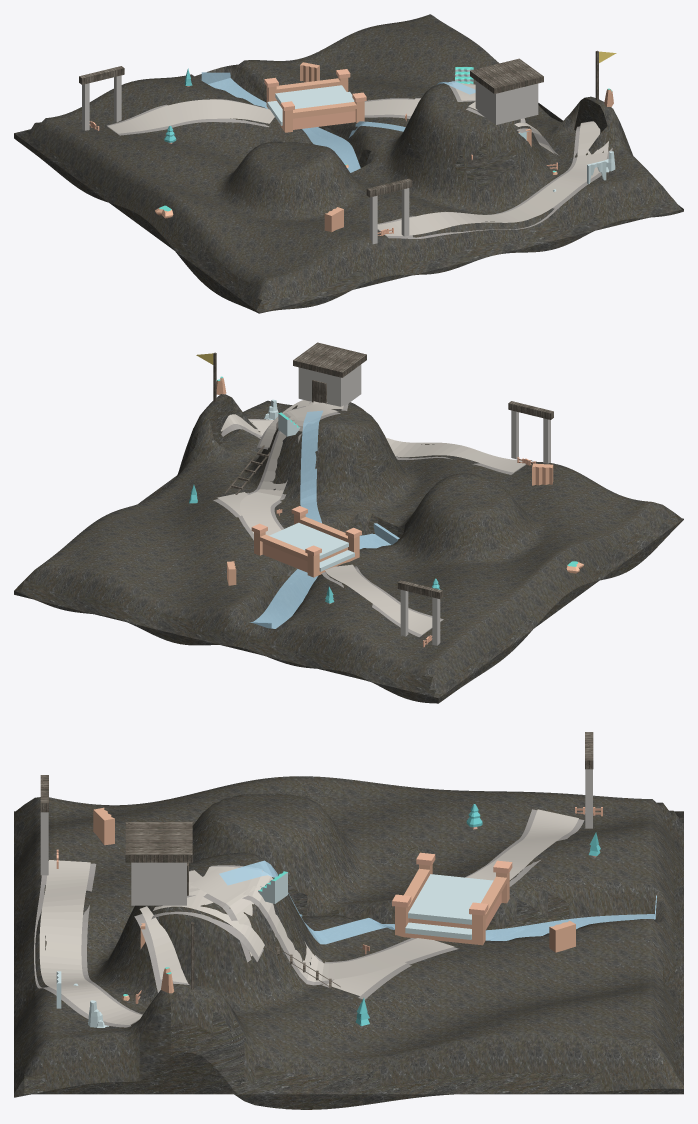
File: world6_rock.glb
3 renders of one model, top to bottom at view 1: azimuth 30°, elevation 25°; view 2: azimuth 150°, elevation 25°; view 3: azimuth 270°, elevation 25°, orthographic. The views are drawn at different scales.
Visible parts, largest first — view 1: W6_Terrain, bridge_woodNarrow, W6_Road_7, W6_Road_0, W6_HutBase, W6_Gorge, W6_HutRoof, W6_RoadCase_7, W6_Road_1, W6_RoadCase_0, W6_Falls, W6_ArchExit_Top; view 2: W6_Terrain, bridge_woodNarrow, W6_Gorge, W6_Road_7, W6_Road_1, W6_Road_0, W6_Falls, W6_HutBase, W6_HutRoof, W6_RoadCase_1; view 3: W6_Terrain, bridge_woodNarrow, W6_Road_7, W6_Road_1, W6_HutRoof, W6_HutBase, W6_Road_0, W6_Falls, W6_Road_5, W6_RoadCase_7, W6_Gorge, W6_Road_6 (+10 smaller).
Part boxes in pixels (x1,y1,x2,y2): W6_Terrain: (14, 14, 683, 313); bridge_woodNarrow: (264, 69, 366, 132); W6_Road_7: (377, 121, 608, 235); W6_Road_0: (108, 99, 274, 133); W6_HutBase: (475, 81, 538, 124); W6_Gorge: (201, 72, 360, 172); W6_HutRoof: (470, 58, 543, 93); W6_RoadCase_7: (377, 126, 612, 238); W6_Road_1: (364, 82, 475, 116); W6_RoadCase_0: (107, 99, 268, 135); W6_Falls: (348, 81, 475, 138); W6_ArchExit_Top: (366, 178, 412, 197); W6_Terrain: (14, 394, 683, 703); bridge_woodNarrow: (251, 506, 361, 577); W6_Gorge: (249, 523, 399, 628); W6_Road_7: (221, 414, 525, 472); W6_Road_1: (240, 408, 338, 535); W6_Road_0: (325, 564, 440, 634); W6_Falls: (300, 410, 322, 523); W6_HutBase: (298, 364, 361, 406); W6_HutRoof: (293, 342, 366, 377); W6_RoadCase_1: (237, 412, 340, 540); W6_Terrain: (14, 776, 683, 1109); bridge_woodNarrow: (392, 852, 512, 945); W6_Road_7: (39, 860, 142, 1025); W6_Road_1: (204, 866, 454, 981); W6_HutRoof: (125, 822, 192, 862); W6_HutBase: (131, 862, 186, 905); W6_Road_0: (467, 809, 578, 880); W6_Falls: (219, 860, 394, 944); W6_Road_5: (190, 868, 279, 956); W6_RoadCase_7: (34, 863, 142, 1027); W6_Gorge: (300, 895, 656, 940); W6_Road_6: (139, 906, 187, 983).
Bounding box in the file's own units: 24 × 7.53 × 24.
18 materials, 3 textured.
